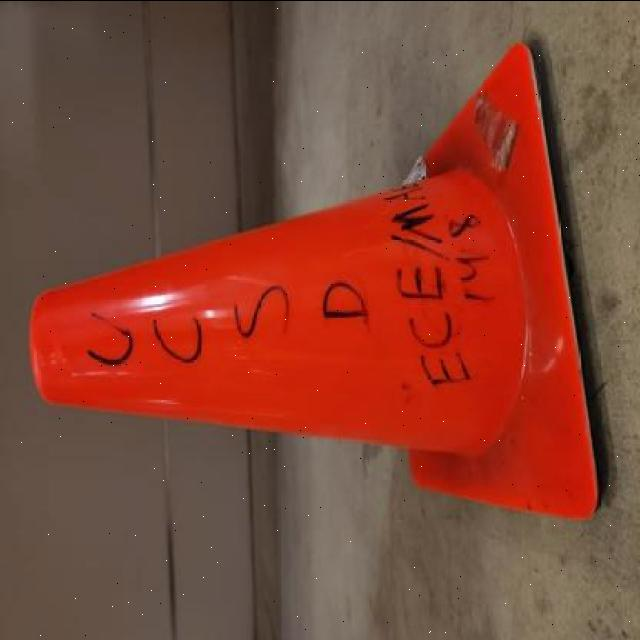traffic cone: (21, 28, 612, 546)
